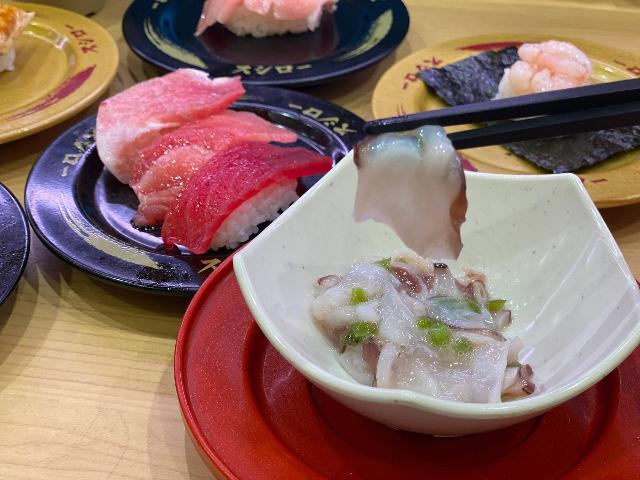janback: (29, 140, 96, 317), (196, 32, 360, 80), (273, 88, 369, 151), (0, 160, 33, 336), (128, 0, 194, 64), (354, 0, 409, 56)
jangold: (17, 4, 116, 115), (579, 165, 640, 215), (377, 72, 445, 115), (583, 31, 640, 81), (463, 147, 535, 180)
